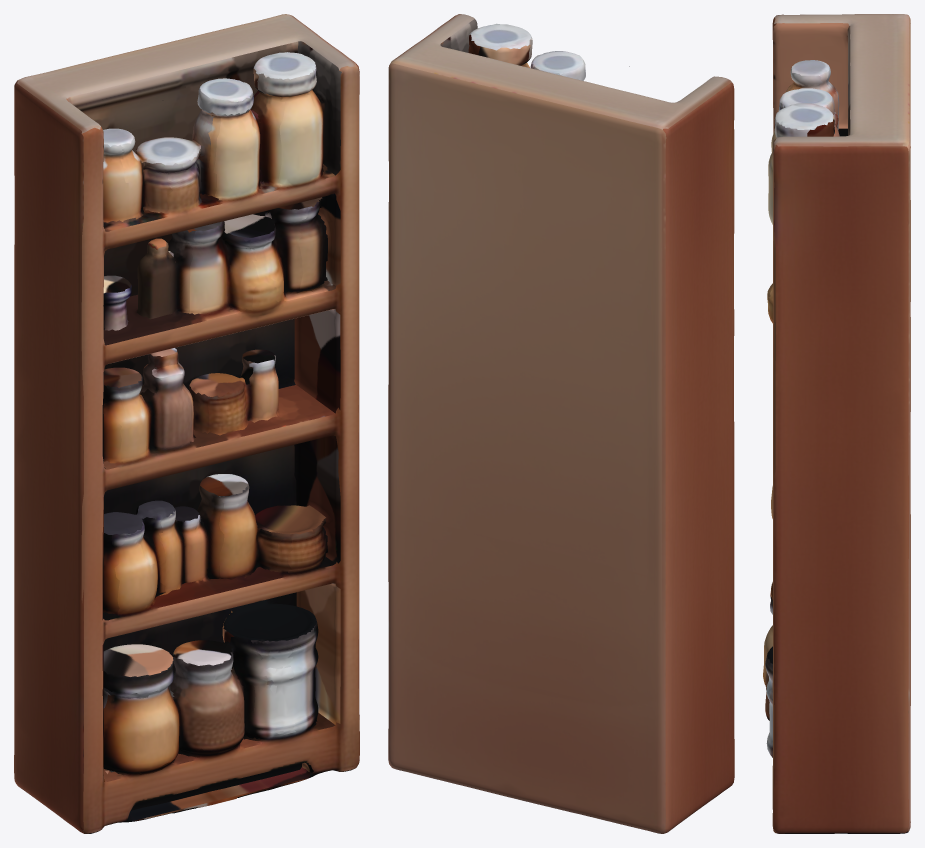
File: estanteria_madera.glb
The picture shows the model from 3 angles, left to right: view 1: azimuth 30°, elevation 25°; view 2: azimuth 150°, elevation 25°; view 3: azimuth 270°, elevation 25°; orthographic projection. The views are drawn at different scales.
Parts seen in each view (by area): view 1: tmpebvif2iz.ply; view 2: tmpebvif2iz.ply; view 3: tmpebvif2iz.ply.
Boxes of the visible parts, x1,y1,x2,y2 form: tmpebvif2iz.ply: (14,14,359,833); tmpebvif2iz.ply: (388,14,734,833); tmpebvif2iz.ply: (763,14,910,833).
Bounding box in the file's own units: 0.4104 × 0.9932 × 0.1917.
Materials: 1 (1 with a texture image).
